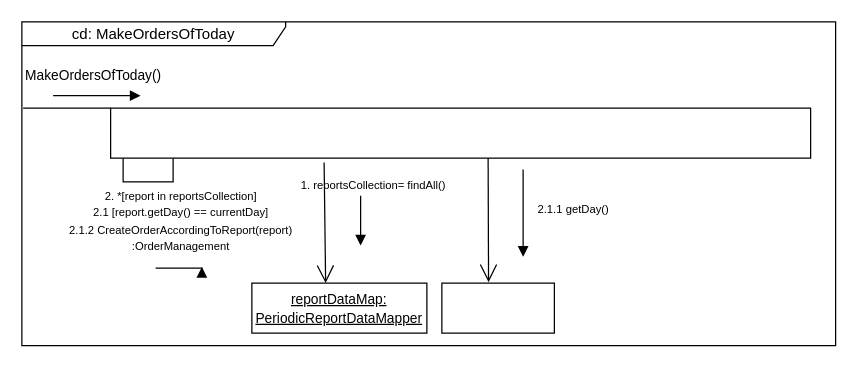
This 858x368 diagram has some shape labels left out. The shapes that lost their labels are listed below. From the top down, each one's centre as x and y in pixels, then its label:
At point (460, 132): "OrderManagment".
At point (497, 307): "report: PeriodicReport".
